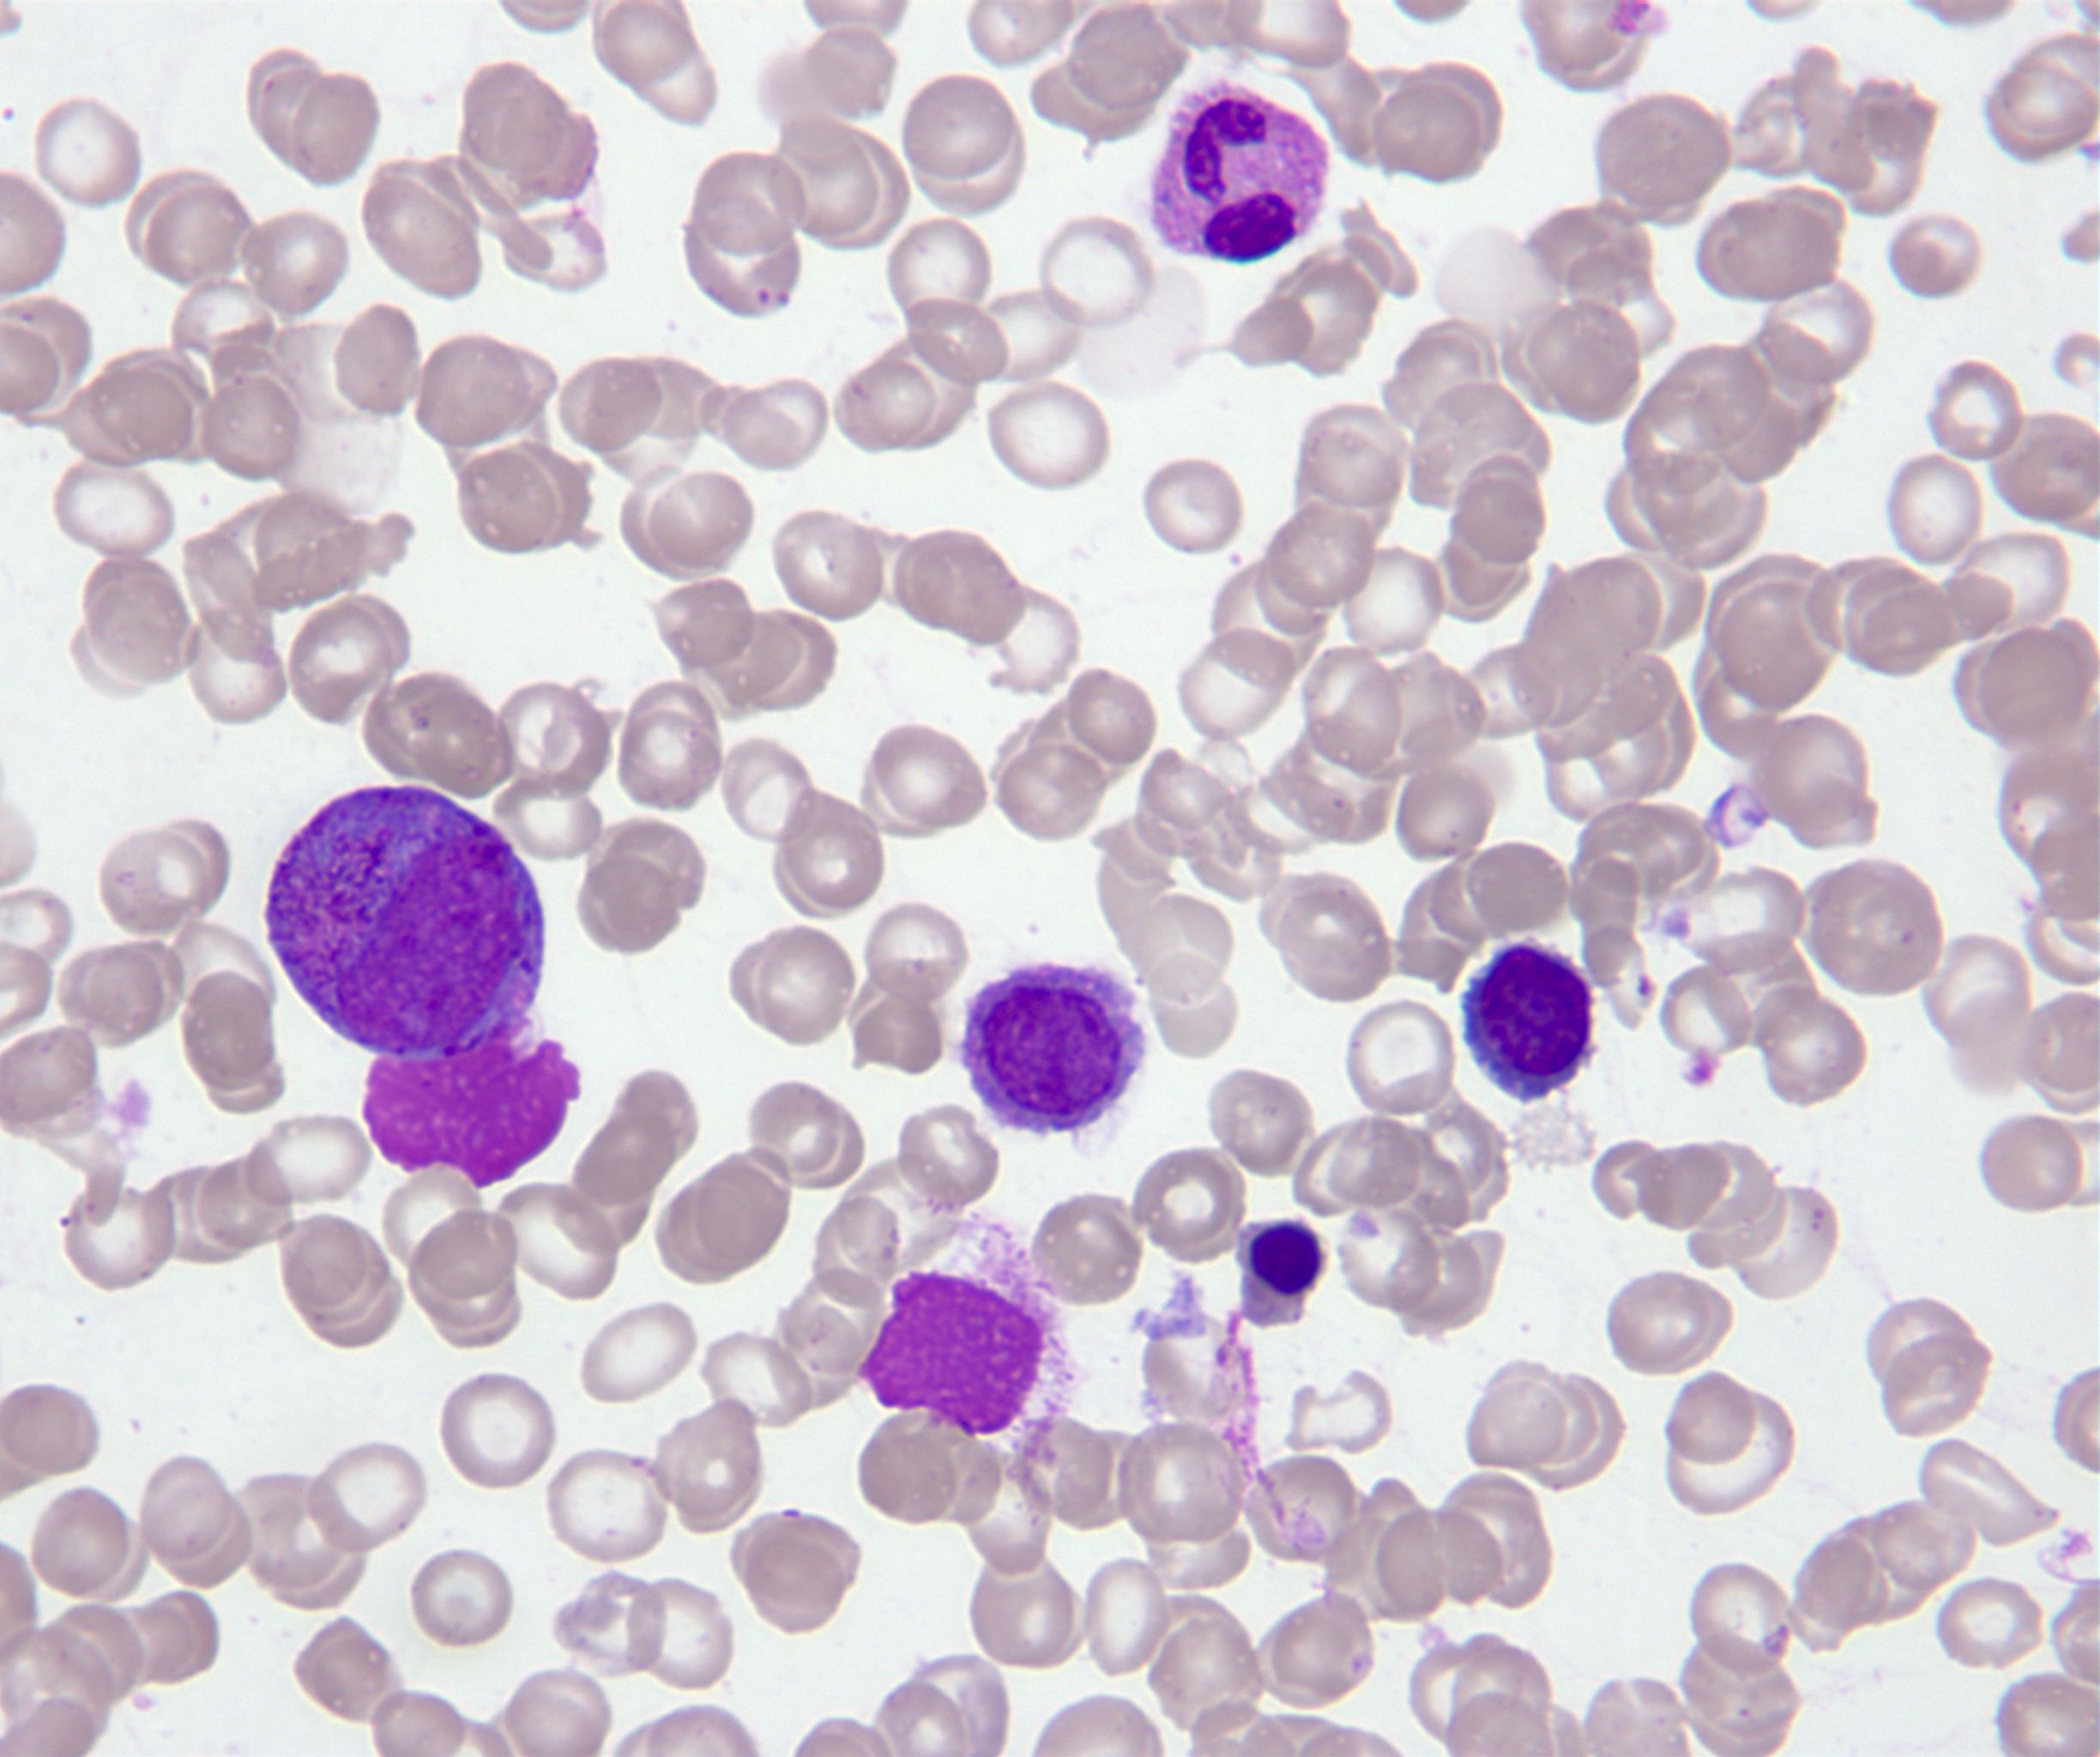2: (265, 787, 544, 1057)
23: (1462, 937, 1592, 1101)
24: (1237, 1214, 1324, 1326)
4: (961, 965, 1144, 1136)
6: (1153, 77, 1329, 262)
x: (856, 1218, 1078, 1481), (363, 1038, 579, 1190)
